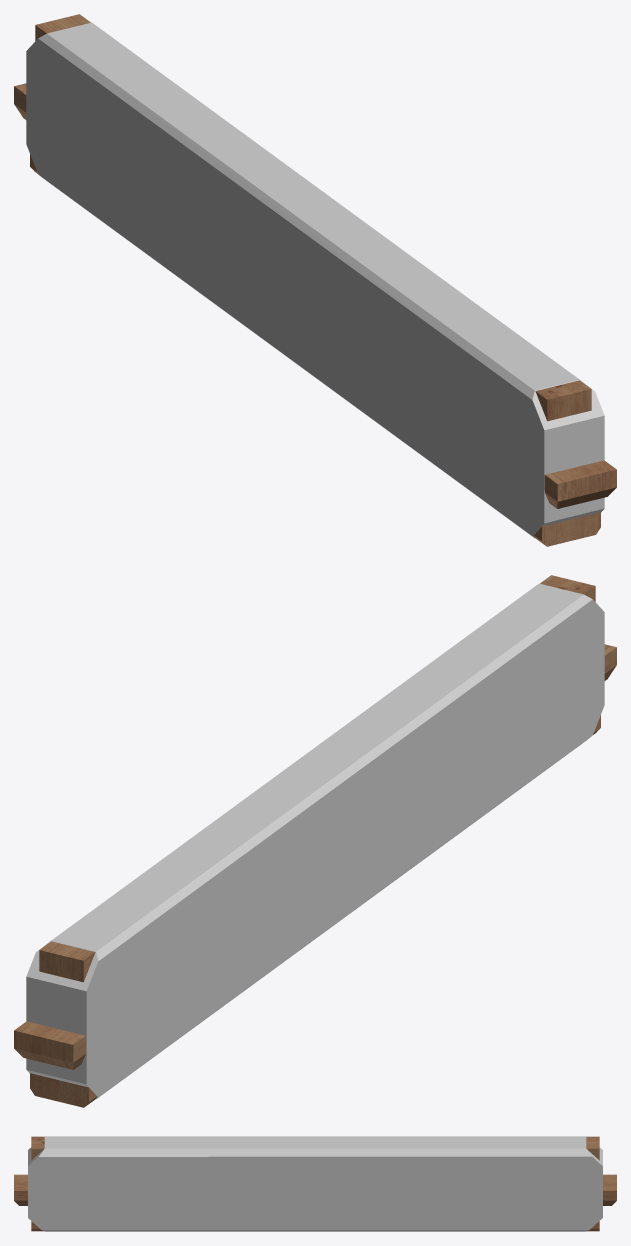
The model's file is SM_DG_BeamC.fbx.
3 views of the same model, one above another, from view 1: azimuth 30°, elevation 25°; view 2: azimuth 150°, elevation 25°; view 3: azimuth 270°, elevation 25° (orthographic). The views are drawn at different scales.
Visible parts, largest first — view 1: SM_DG_BeamC_ConvexHulls, SM_DG_BeamC; view 2: SM_DG_BeamC_ConvexHulls, SM_DG_BeamC; view 3: SM_DG_BeamC_ConvexHulls, SM_DG_BeamC.
Boxes of the visible parts, box(x1,y1,x2,y2) form: SM_DG_BeamC_ConvexHulls: box(26, 22, 604, 538); SM_DG_BeamC: box(14, 14, 616, 546); SM_DG_BeamC_ConvexHulls: box(26, 583, 604, 1098); SM_DG_BeamC: box(14, 575, 616, 1107); SM_DG_BeamC_ConvexHulls: box(28, 1136, 602, 1231); SM_DG_BeamC: box(14, 1136, 616, 1231).
Bounding box in the file's own units: 16 × 250 × 37.43.
Materials: 2 (1 with a texture image).
